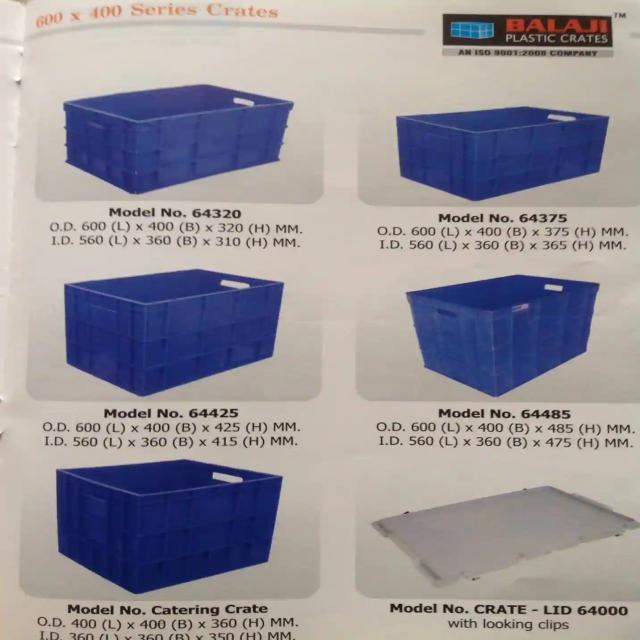basket: (54, 457, 286, 597), (62, 266, 287, 399), (60, 77, 299, 199), (406, 267, 609, 404), (391, 96, 610, 210)
